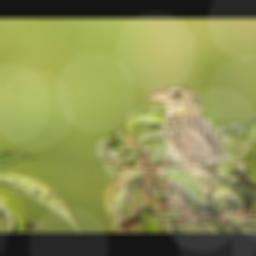Sparrow: (146, 83, 246, 195)
